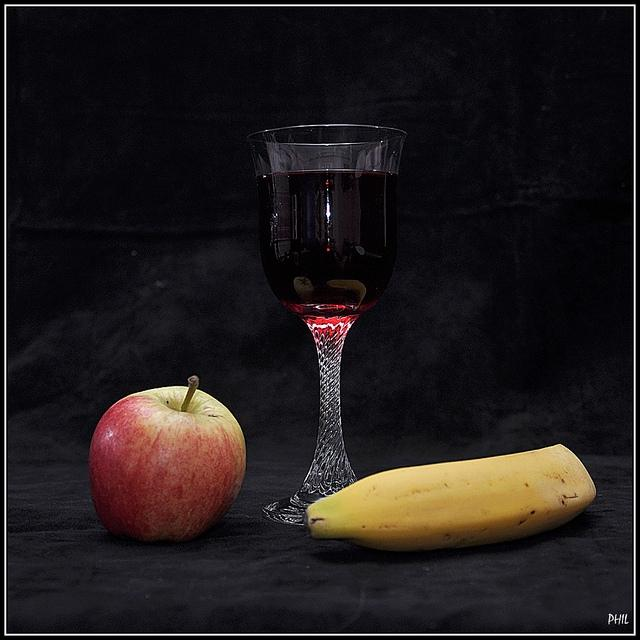apple: (90, 376, 246, 543), (294, 274, 316, 304)
banana: (304, 444, 596, 552)
